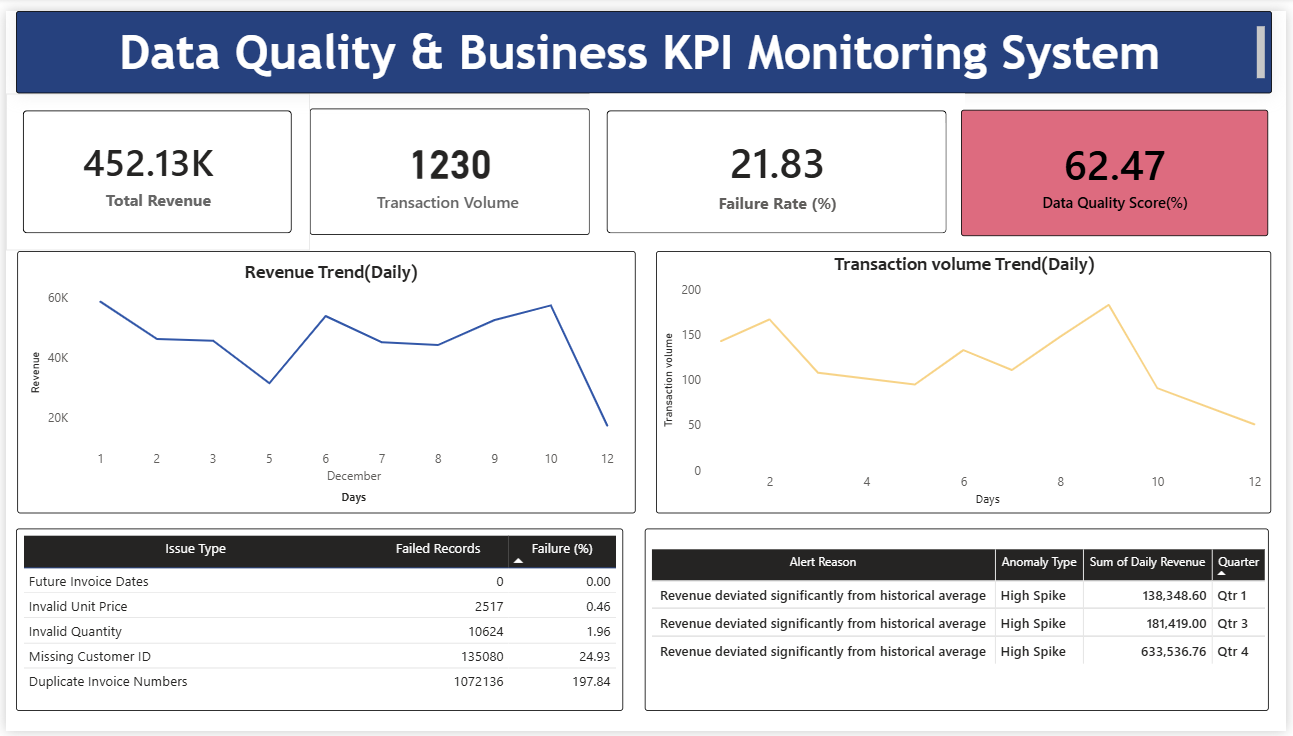

Layout of this report page (visuals, bound fields, positions):
{"tool":"powerbi","page":{"name":"Page 1","canvas":[1280,720],"ordinal":0},"visuals":[{"type":"card","fields":{"Values":["Sum(quick kpi check 8 2.transaction_volume)"]},"box":[303.8,97.5,280,126.2],"z":0},{"type":"cardVisual","fields":{"Data":["Sum(quick kpi check 8 2.revenue)"]},"box":[0,82.5,303.8,157.5],"z":1000},{"type":"textbox","box":[10,0,1256.2,82.5],"z":2000},{"type":"cardVisual","fields":{"Data":["Sum(quick kpi check 8 2.failure_rate)"]},"box":[583.8,82.5,375,157.5],"z":3000},{"type":"lineChart","title":"Revenue Trend(Daily)","fields":{"Y":["Sum(quick kpi check 8 2.revenue)"],"Category":["quick kpi check 8 2.date.Variation.Date Hierarchy.Month","quick kpi check 8 2.date.Variation.Date Hierarchy.Day"]},"box":[11.2,240,618.8,262.5],"z":5000},{"type":"lineChart","title":"Transaction volume Trend(Daily)","fields":{"Category":["quick kpi check 8 2.date.Variation.Date Hierarchy.Day"],"Y":["Sum(quick kpi check 8 2.transaction_volume)"]},"box":[650,240,615,262.5],"z":6000},{"type":"tableEx","fields":{"Values":["7 review data quality product.check_name","Sum(7 review data quality product.failed_records)","Sum(7 review data quality product.failure_percentage)"]},"box":[10,517.5,607.5,182.5],"z":7000},{"type":"tableEx","fields":{"Values":["revenue_anomaly_alert_log.Alert Reason","revenue_anomaly_alert_log.Anomaly Type","Sum(revenue_anomaly_alert_log.Daily Revenue)","revenue_anomaly_alert_log.Date.Variation.Date Hierarchy.Quarter"]},"box":[638.8,517.5,623.8,182.5],"z":7001},{"type":"card","fields":{"Values":["Sum(9 1 data quality score.data_quality_score)"]},"box":[955,98.8,307.5,126.2],"z":7002}]}

Visuals, with their boxes in screenshot pixels (x1, y1, x2, y2), scaled from the page's 1280x720 canvas onto the 1293x736 screenshot:
card - Sum(quick kpi check 8 2.transaction_volume): pyautogui.locateOnScreen(307, 100, 590, 229)
cardVisual - Sum(quick kpi check 8 2.revenue): pyautogui.locateOnScreen(0, 84, 307, 245)
textbox: pyautogui.locateOnScreen(10, 0, 1279, 84)
cardVisual - Sum(quick kpi check 8 2.failure_rate): pyautogui.locateOnScreen(590, 84, 969, 245)
"Revenue Trend(Daily)" lineChart: pyautogui.locateOnScreen(11, 245, 636, 514)
"Transaction volume Trend(Daily)" lineChart: pyautogui.locateOnScreen(657, 245, 1278, 514)
tableEx - 7 review data quality product.check_name x Sum(7 review data quality product.failed_records): pyautogui.locateOnScreen(10, 529, 624, 716)
tableEx - revenue_anomaly_alert_log.Alert Reason x revenue_anomaly_alert_log.Anomaly Type: pyautogui.locateOnScreen(645, 529, 1275, 716)
card - Sum(9 1 data quality score.data_quality_score): pyautogui.locateOnScreen(965, 101, 1275, 230)
